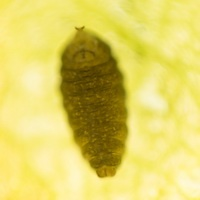insect: (61, 27, 126, 176)
